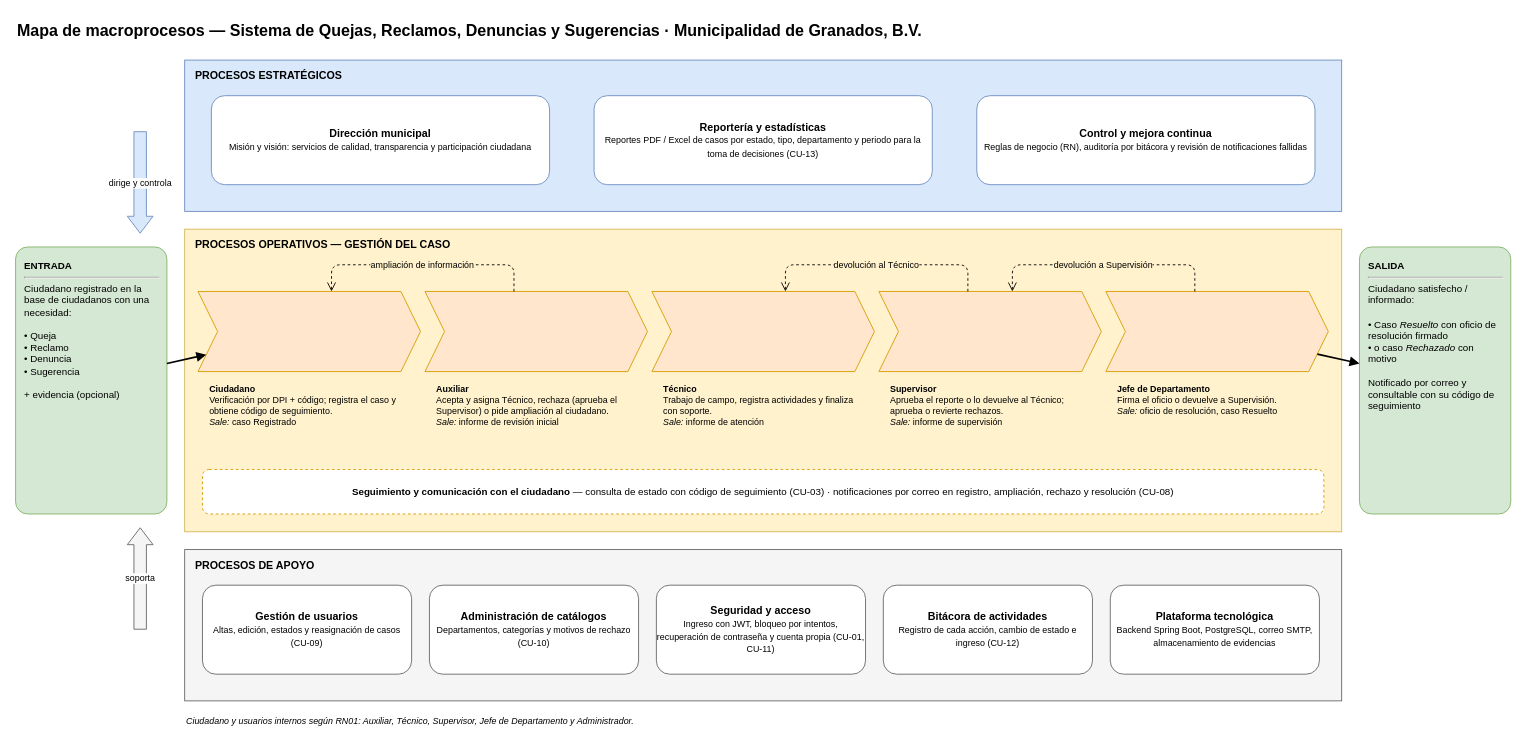
Image size: 1526x746. Some labels were removed from this diagram. Each missing label, with the centre of its shape:
1. Recepción y registro CU-02: the point at 309,331
2. Revisión inicial CU-04 · CU-14: the point at 535,331
3. Atención del caso CU-05: the point at 762,331
4. Supervisión CU-06: the point at 989,331
5. Resolución y cierre CU-07: the point at 1216,331
